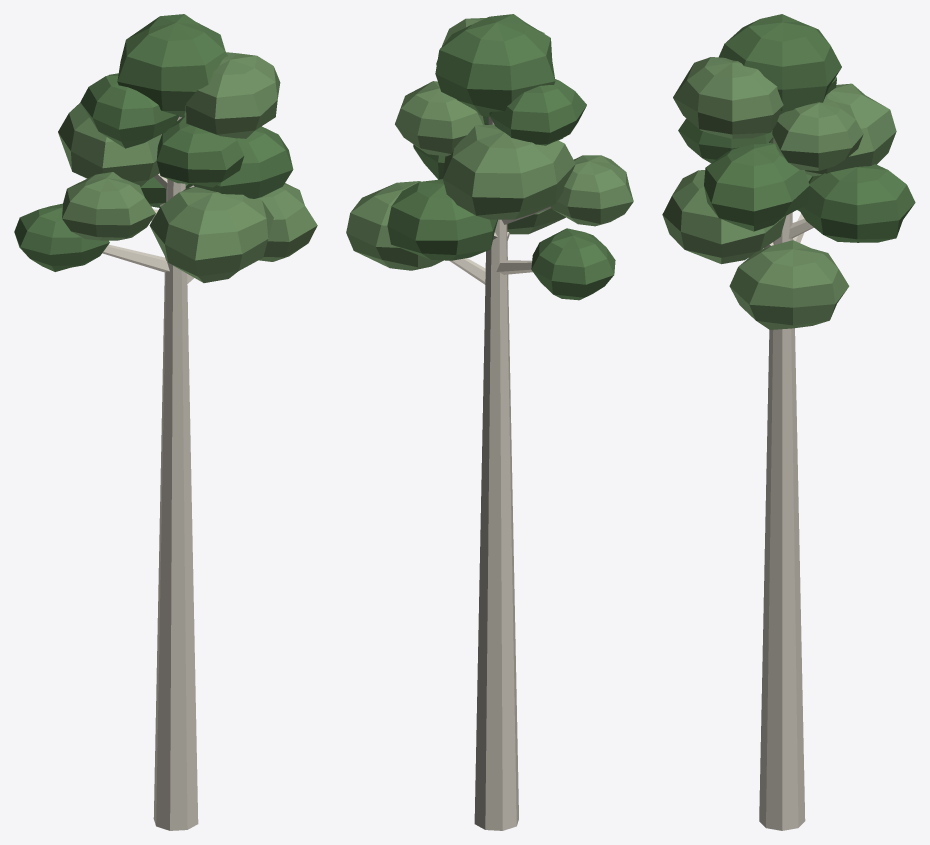
File: tree_mountain_ash_large.glb
The picture shows the model from 3 angles, left to right: view 1: azimuth 30°, elevation 25°; view 2: azimuth 150°, elevation 25°; view 3: azimuth 270°, elevation 25°; orthographic projection.
Parts seen in each view (by area): view 1: tree_mountain_ash_large; view 2: tree_mountain_ash_large; view 3: tree_mountain_ash_large.
Part boxes in pixels (box(x1,y1,x2,y2)): tree_mountain_ash_large: box(14, 14, 317, 830); tree_mountain_ash_large: box(346, 14, 633, 830); tree_mountain_ash_large: box(662, 14, 915, 830).
Size of the model in its own units: 6.29 by 17.92 by 5.15.
